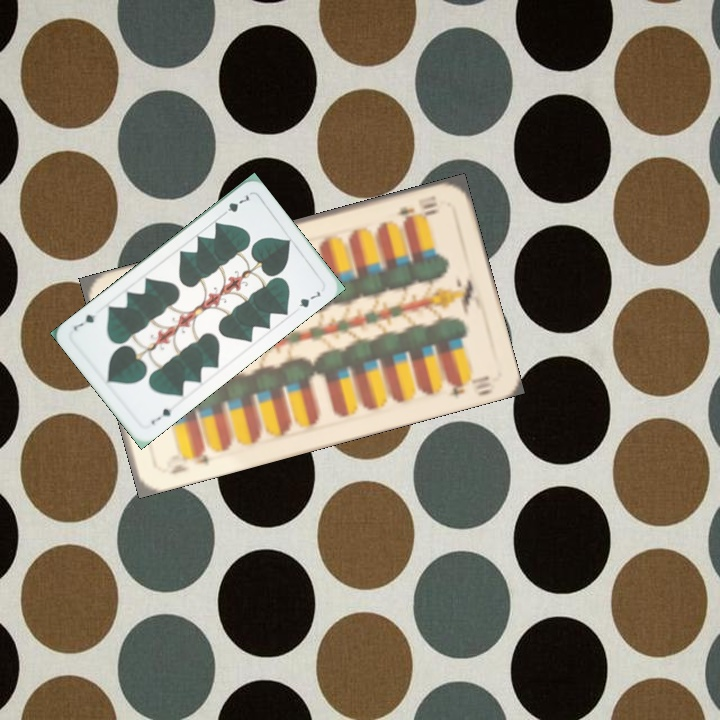E10: (165, 444, 212, 477), (392, 196, 440, 225)
G7: (217, 190, 253, 219), (147, 404, 174, 427)
